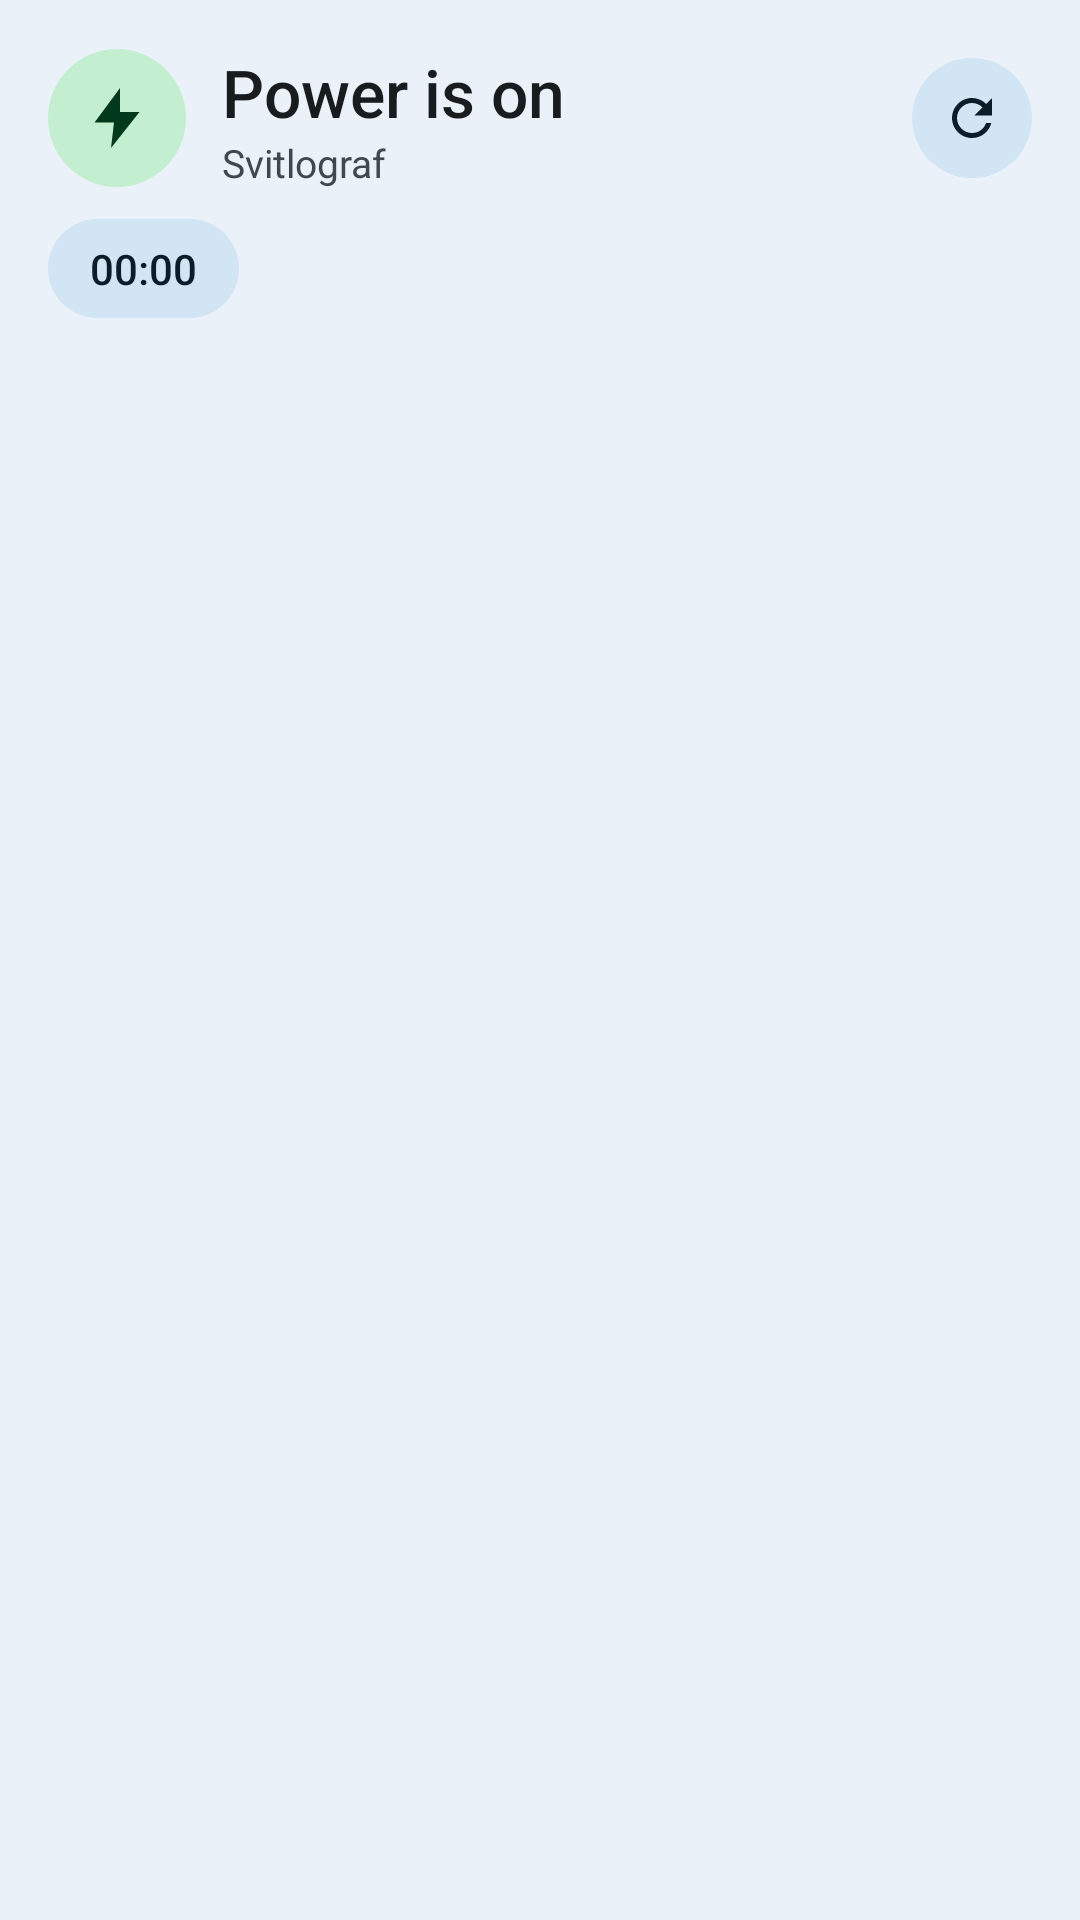

Icons on this 1080 × 1920 Android screen, each with its box as (x1,y1,x2,y2):
Refresh: (912,58,1032,178)
